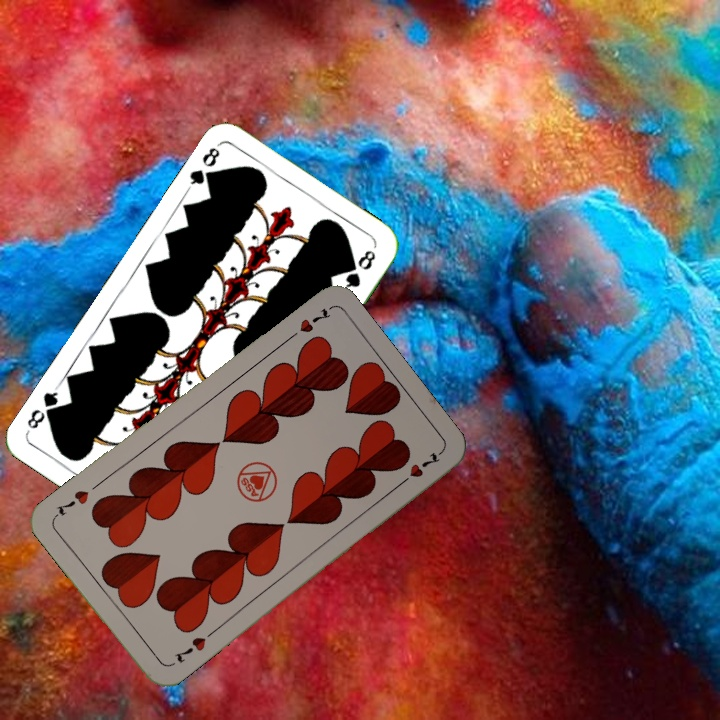G8: (183, 141, 223, 193)
H7: (282, 304, 334, 344), (170, 632, 209, 666)
